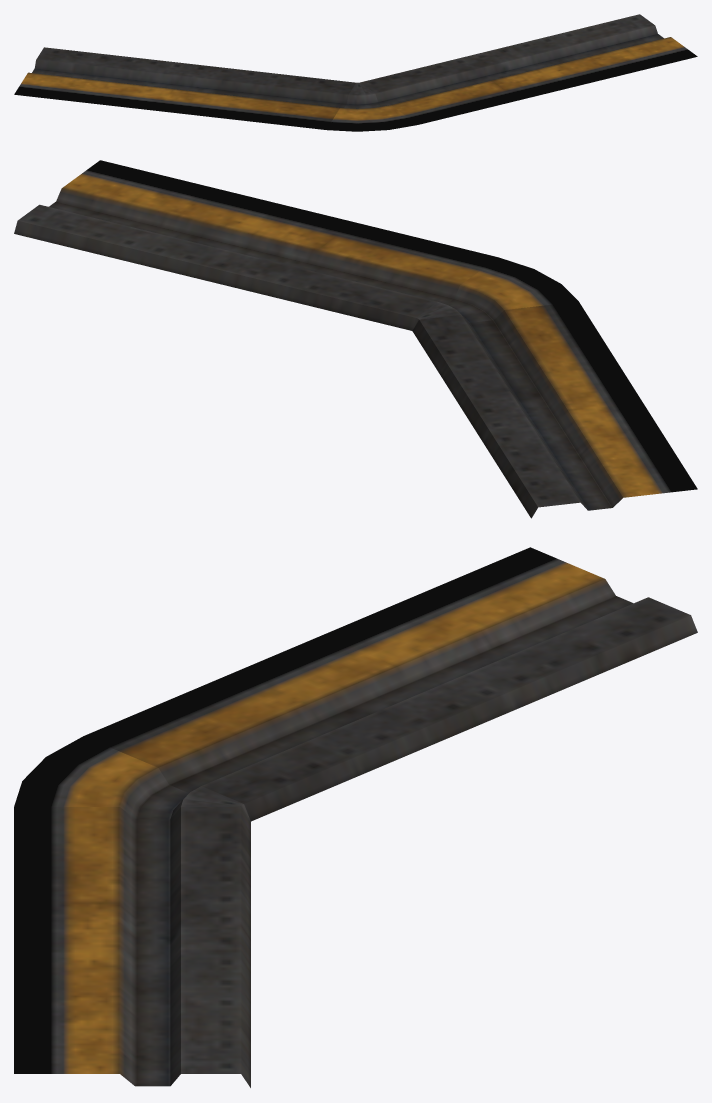
Rendered from lab_floor_welder_concave_45.dae.
3 views of the same model, one above another, from view 1: azimuth 30°, elevation 25°; view 2: azimuth 150°, elevation 25°; view 3: azimuth 270°, elevation 25° (orthographic). The views are drawn at different scales.
Visible parts, largest first — view 1: floor_welder; view 2: floor_welder; view 3: floor_welder.
Part boxes in pixels (x1,y1,x2,y2): floor_welder: [14, 14, 697, 131]; floor_welder: [14, 160, 697, 518]; floor_welder: [14, 547, 697, 1087].
Size of the model in its own units: 1.97 by 0.0254 by 1.08.
